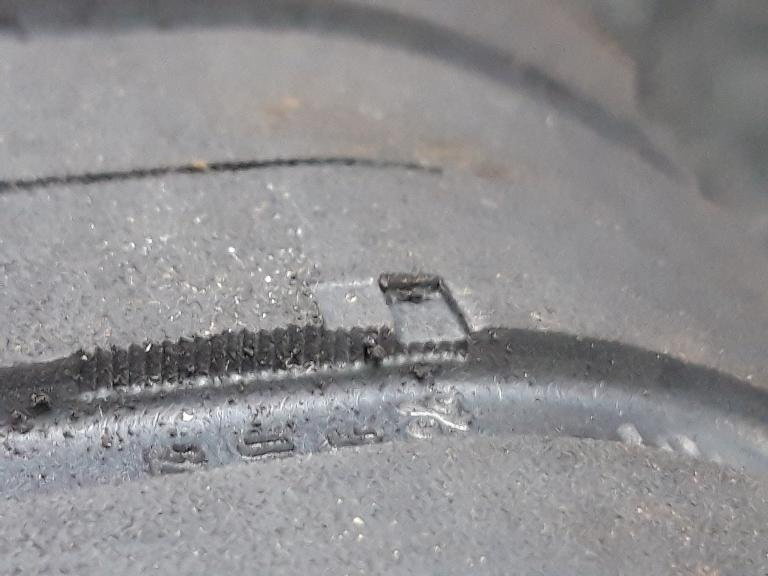temoin:25: (282, 257, 497, 397)
